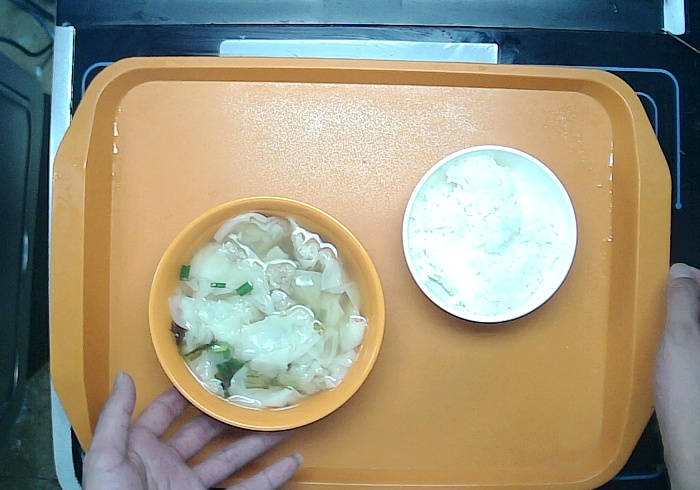NLDX-Fan_Wan: (397, 140, 583, 330)
NLDX-Hun_Tun_Wan: (142, 191, 390, 437)
